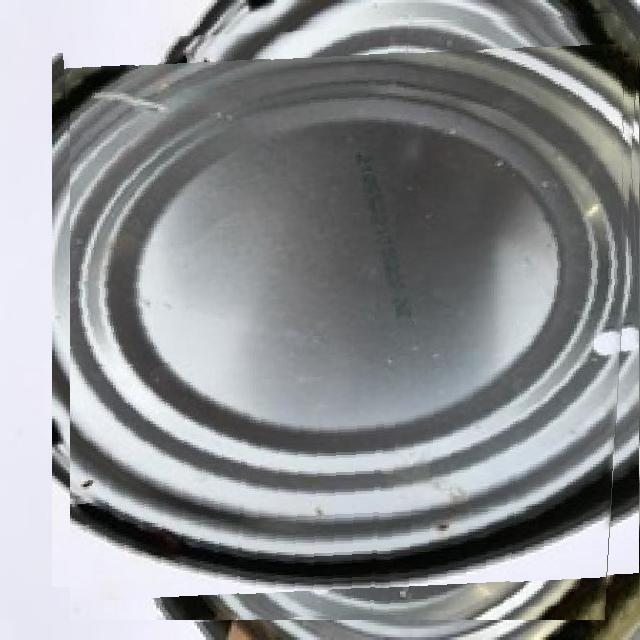recyclable: (70, 19, 640, 620)
